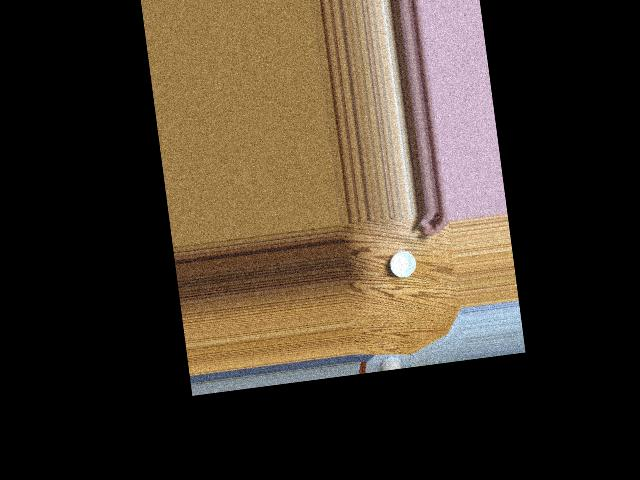cotage: (388, 244, 420, 281)
